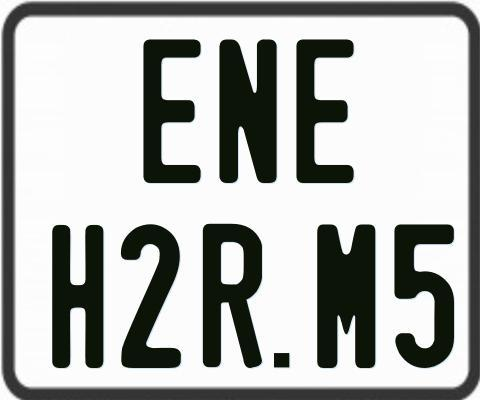2: (118, 223, 181, 369)
5: (394, 225, 455, 372)
E: (294, 38, 357, 183), (143, 40, 203, 189)
H: (51, 223, 106, 366)
M: (315, 225, 373, 374)
N: (218, 40, 279, 186)
R: (201, 222, 265, 371)
